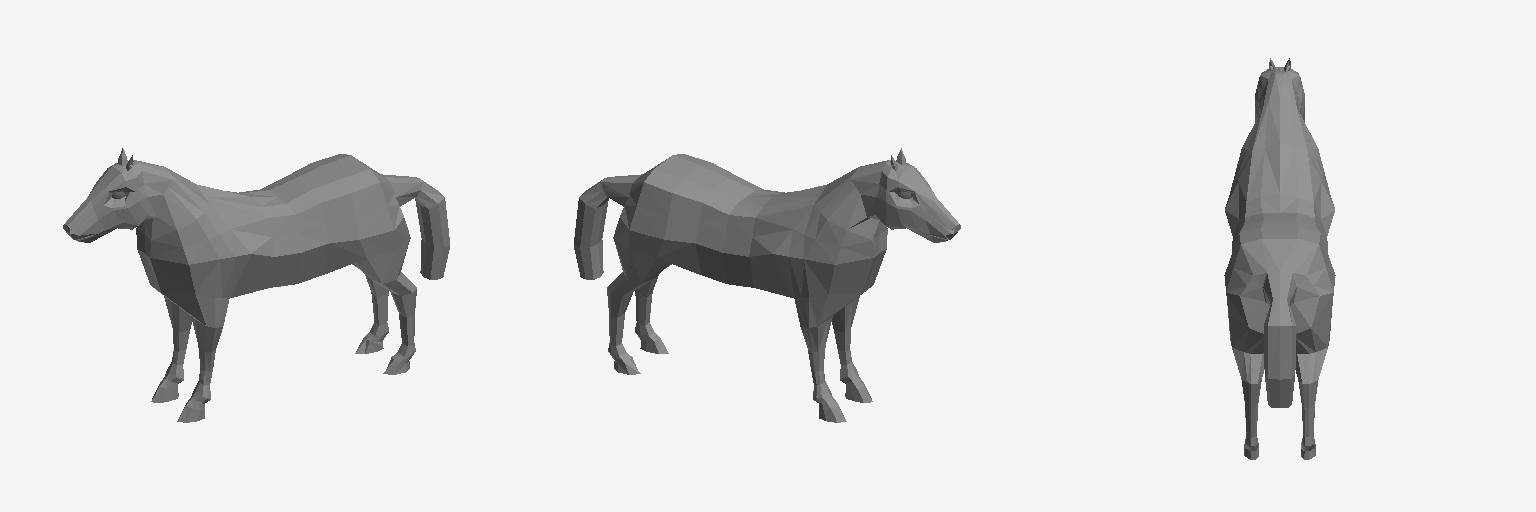
Rendered from Hourse_OBJ.obj.
3 renders of one model, left to right at view 1: azimuth 30°, elevation 25°; view 2: azimuth 150°, elevation 25°; view 3: azimuth 270°, elevation 25°, orthographic.
Visible parts, largest first — view 1: Hourse_body; view 2: Hourse_body; view 3: Hourse_body.
Boxes of the visible parts, x1=… form: Hourse_body: x1=63, y1=148, x2=449, y2=422; Hourse_body: x1=574, y1=148, x2=960, y2=422; Hourse_body: x1=1224, y1=58, x2=1335, y2=459.
Size of the model in its own units: 39.02 by 26.68 by 9.87.